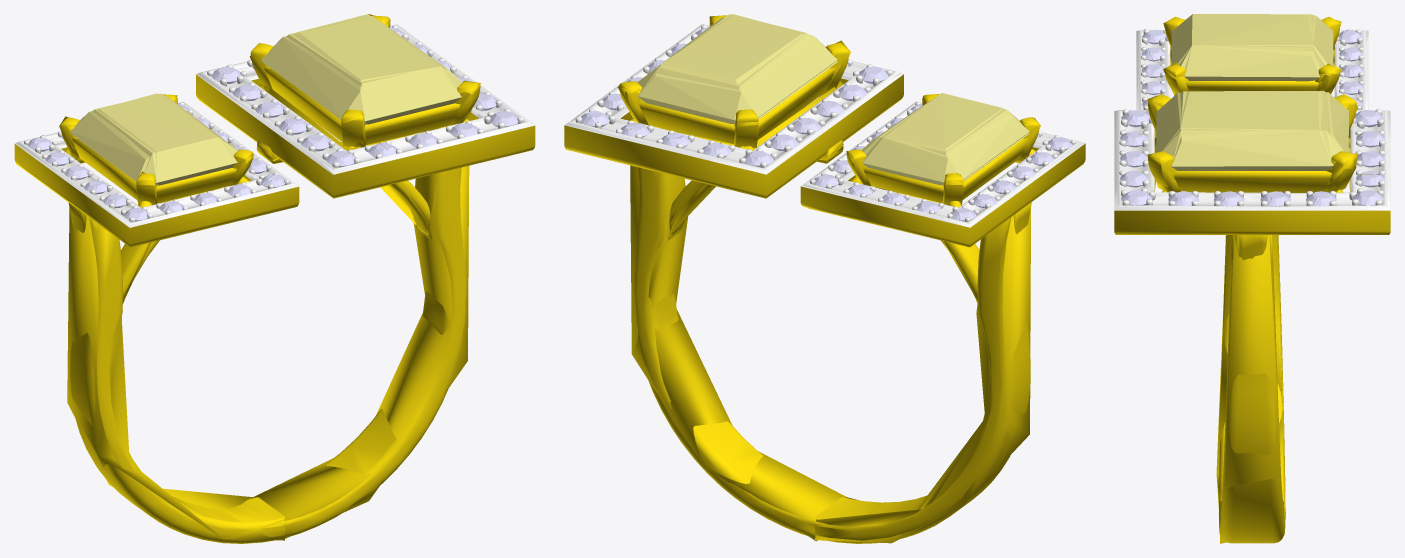
The model's file is DLR-D000284443.glb.
3 views of the same model, side by side, from view 1: azimuth 30°, elevation 25°; view 2: azimuth 150°, elevation 25°; view 3: azimuth 270°, elevation 25° (orthographic).
Parts seen in each view (by area): view 1: highPolyMesh, lowPolyMesh; view 2: highPolyMesh, lowPolyMesh; view 3: highPolyMesh, lowPolyMesh.
Boxes of the visible parts, x1=… form: highPolyMesh: x1=14, y1=15, x2=535, y2=543; lowPolyMesh: x1=15, y1=14, x2=534, y2=540; highPolyMesh: x1=564, y1=14, x2=1085, y2=543; lowPolyMesh: x1=565, y1=14, x2=1083, y2=543; highPolyMesh: x1=1114, y1=14, x2=1390, y2=543; lowPolyMesh: x1=1114, y1=14, x2=1390, y2=543.
Bounding box in the file's own units: 0.0204 × 0.0227 × 0.0123.
